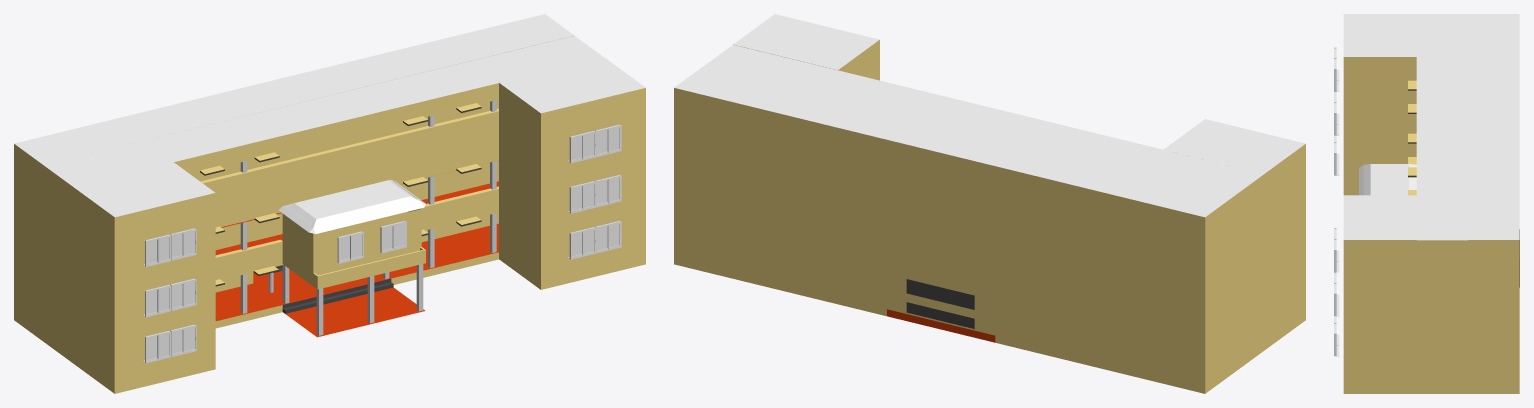
The model's file is CSBlock.glb.
3 views of the same model, side by side, from view 1: azimuth 30°, elevation 25°; view 2: azimuth 150°, elevation 25°; view 3: azimuth 270°, elevation 25° (orthographic). The views are drawn at different scales.
Parts seen in each view (by area): view 1: Plane; view 2: Plane; view 3: Plane.
Part boxes in pixels (left/top/right/bottom): Plane: left=14, top=14, right=645, bottom=393; Plane: left=674, top=14, right=1305, bottom=393; Plane: left=1343, top=14, right=1519, bottom=393.
Bounding box in the file's own units: 505 × 161 × 176.
